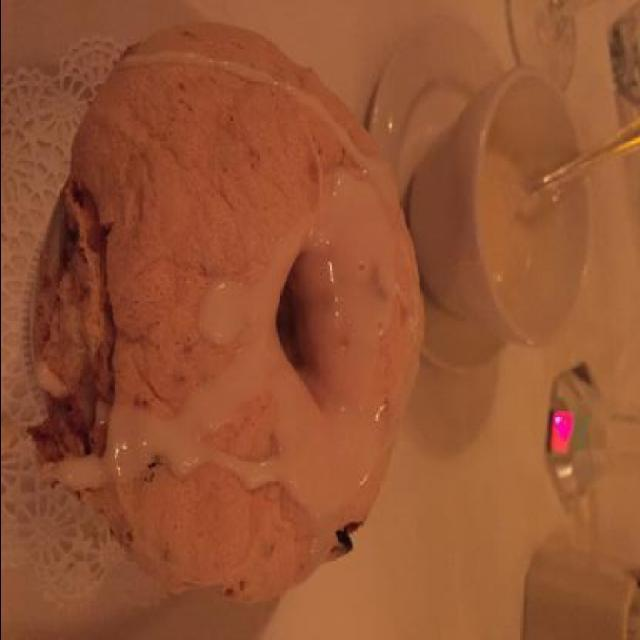Bagel: (30, 33, 428, 604)
